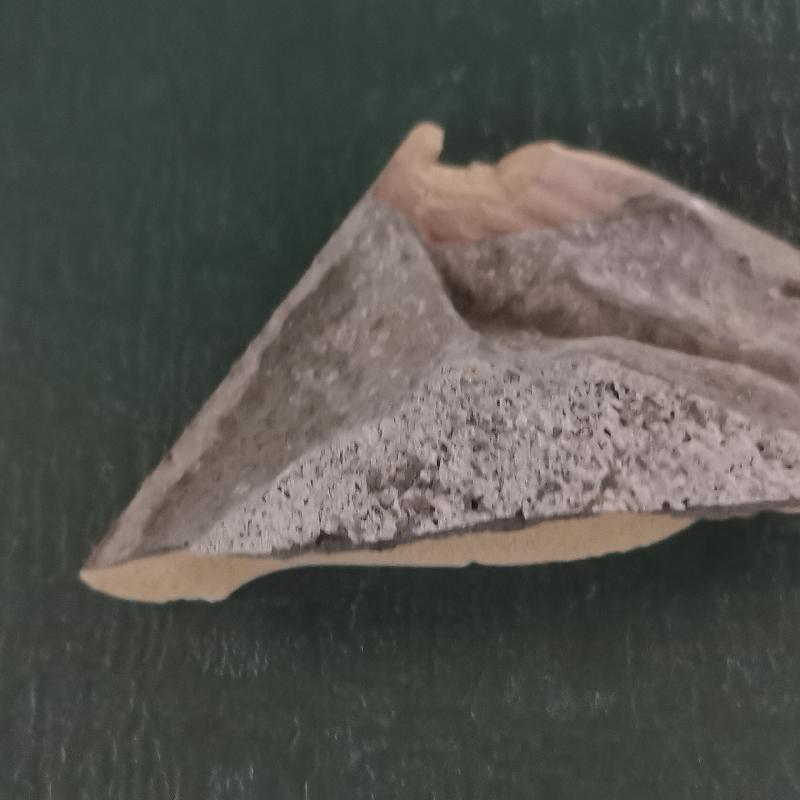tile: (70, 119, 800, 612)
